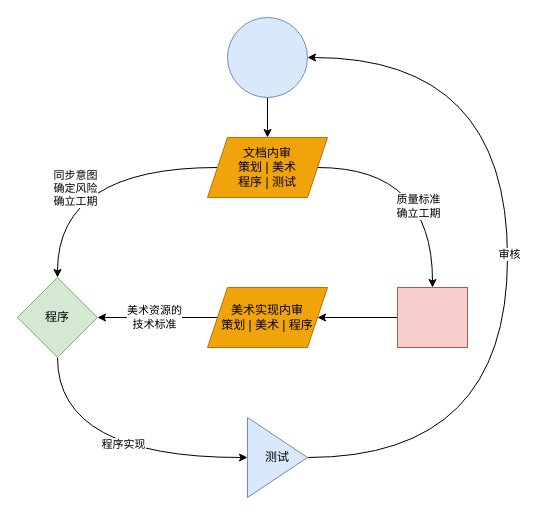
This 537x515 diagram has some shape labels left out. The shapes that lost their labels are listed below. From the top down, each one's centre as x and y in pixels, then its label:
At point (267, 57): "策划".
At point (432, 317): "美术".
